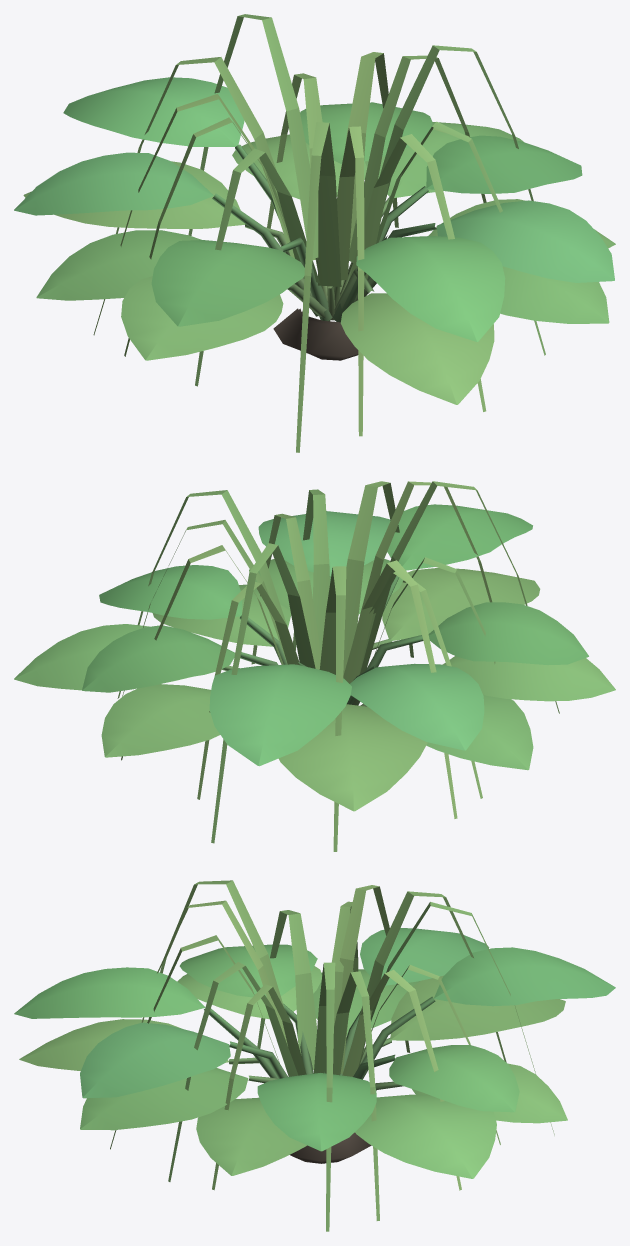
File: ground-cover-library-original-v1.glb
3 views of the same model, one above another, from view 1: azimuth 30°, elevation 25°; view 2: azimuth 150°, elevation 25°; view 3: azimuth 270°, elevation 25° (orthographic). The views are drawn at different scales.
Visible parts, largest first — view 1: ground-cover-attached-leaves (×3), ground-cover-load-bearing-structure (×3); view 2: ground-cover-attached-leaves (×3), ground-cover-load-bearing-structure; view 3: ground-cover-attached-leaves (×3), ground-cover-load-bearing-structure (×2).
Boxes of the visible parts, box(x1,y1,x2,y2) form: ground-cover-attached-leaves (×3): box(14, 14, 615, 452); ground-cover-load-bearing-structure (×3): box(212, 144, 436, 360); ground-cover-attached-leaves (×3): box(14, 481, 615, 851); ground-cover-load-bearing-structure: box(239, 576, 423, 705); ground-cover-attached-leaves (×3): box(14, 880, 615, 1231); ground-cover-load-bearing-structure (×2): box(204, 996, 435, 1163).
Bounding box in the file's own units: 1.49 × 0.7918 × 1.75.
